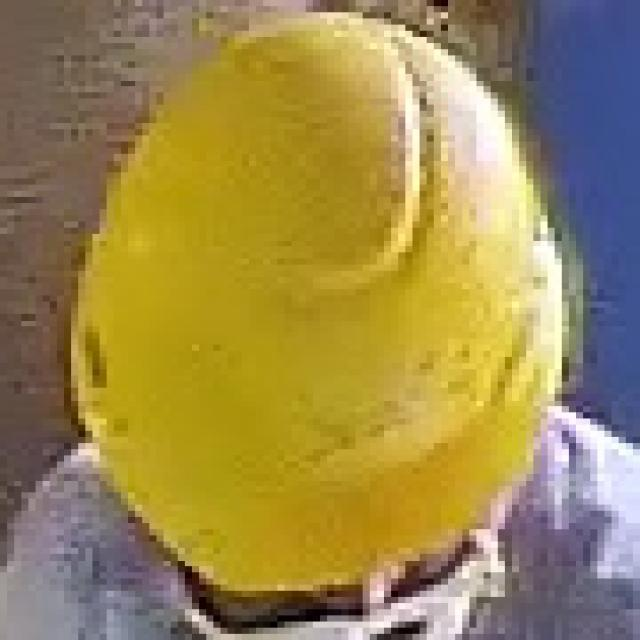yellow helmet: (75, 13, 568, 594)
